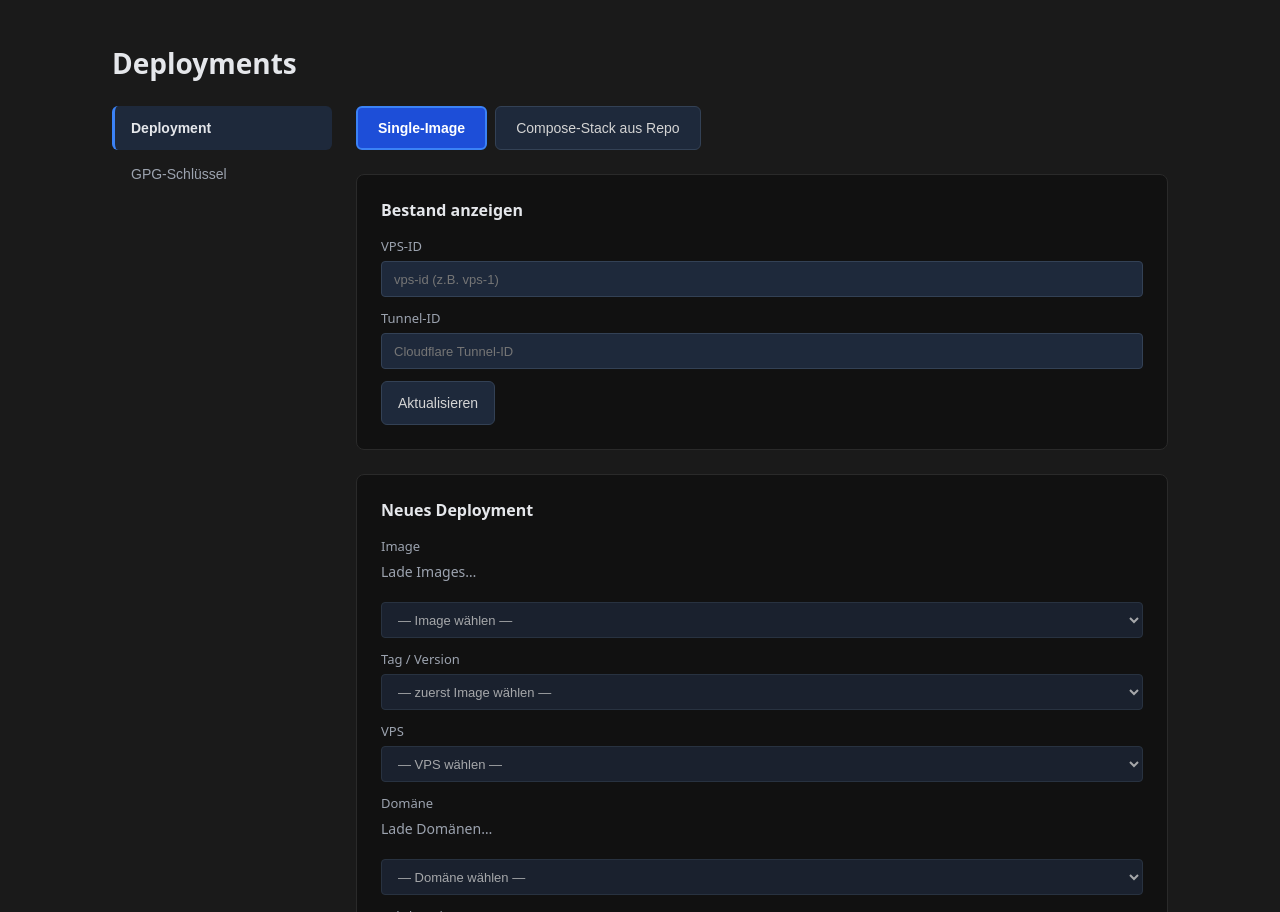
Test: DeploymentsView — AC12: Stack-Undeploy type-to-confirm › submit button disabled when confirm != stackName
The image size is (1280, 912).
Click the button "Compose-Stack aus Repo" at (598, 128), box [495,106,700,150]
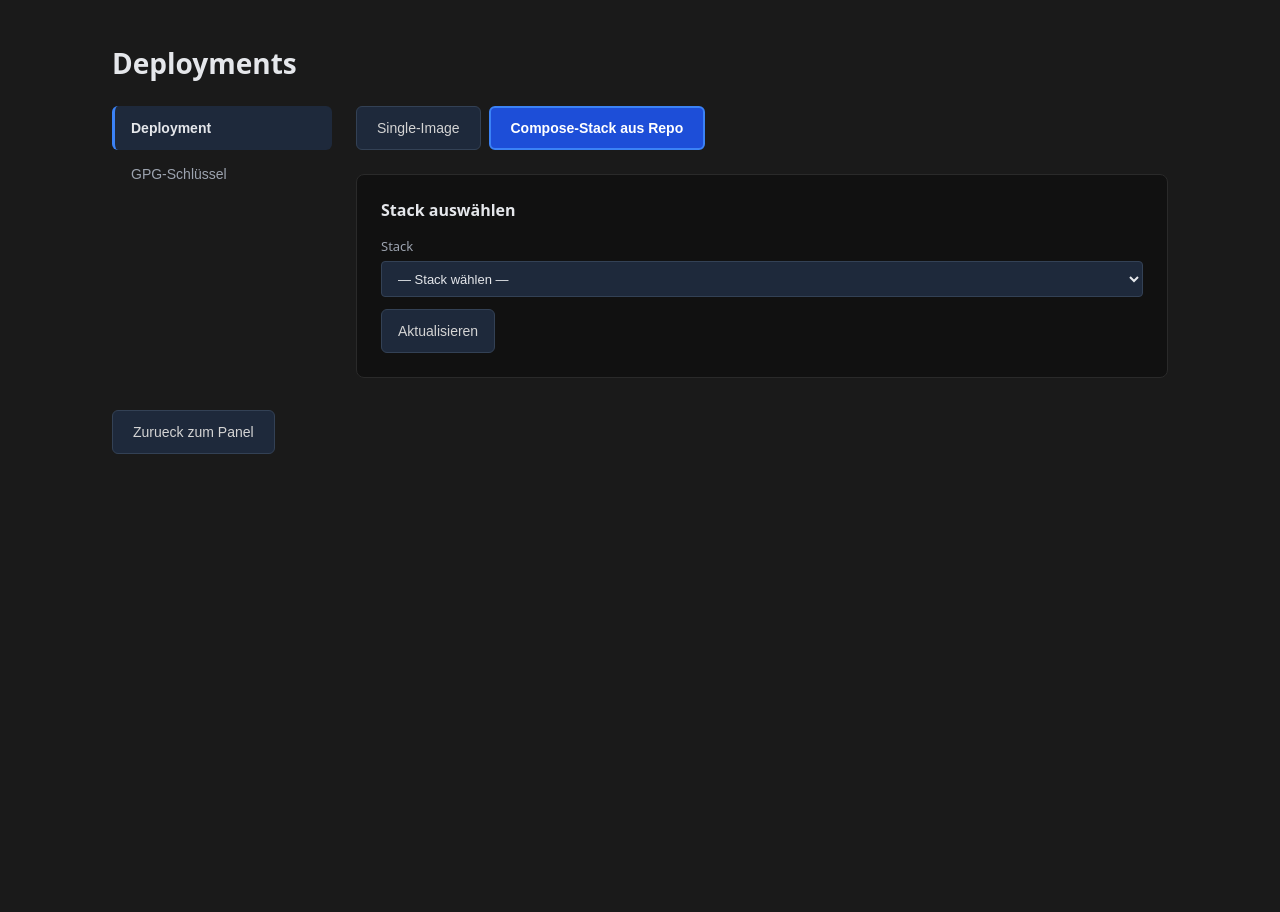
expect the dropdown named "Compose-Stack auswählen" is shown: met
Select "myapp" in the dropdown named "Compose-Stack auswählen" at (762, 279), box [381,261,1143,297]
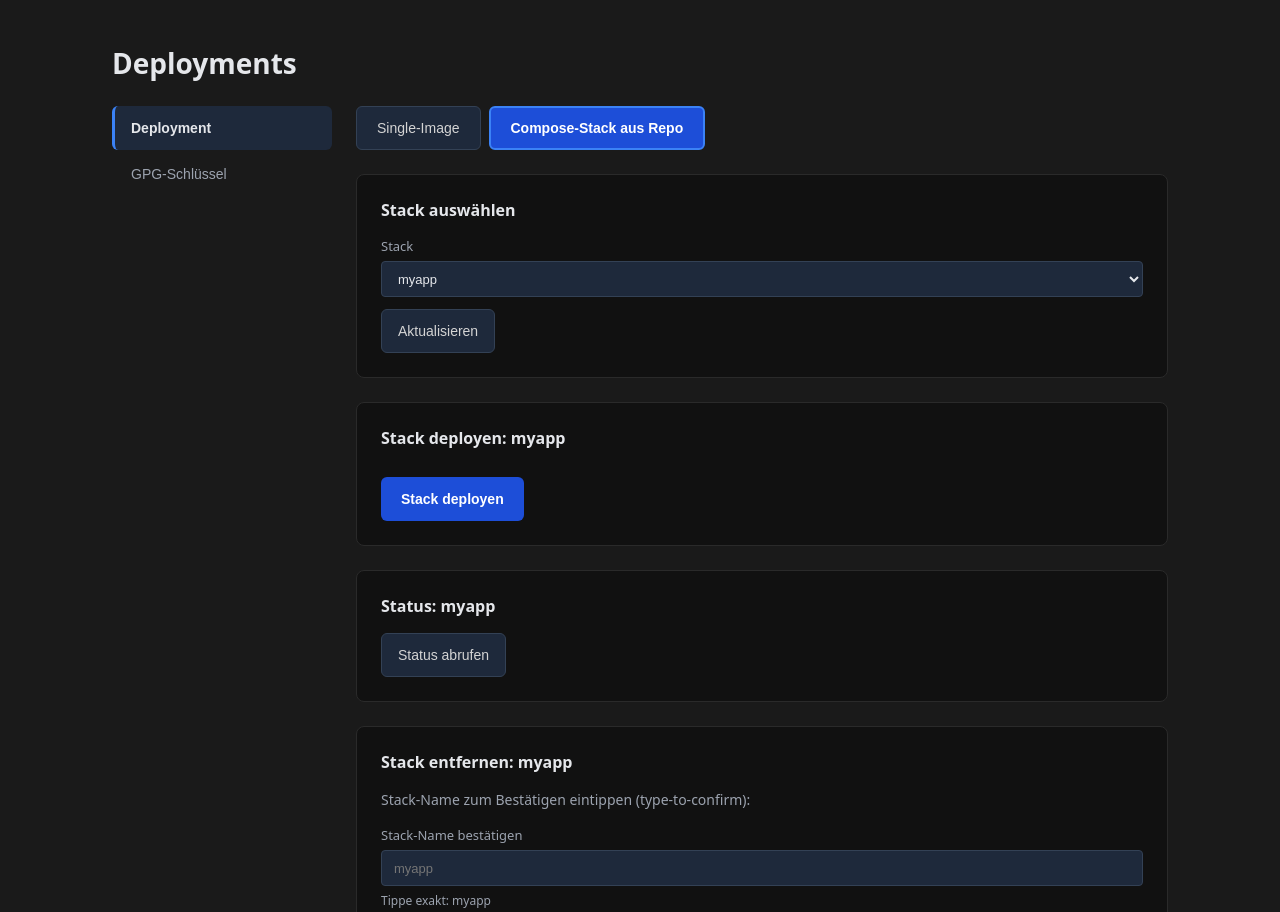
expect the element "Stack entfernen" is shown: met, box [356,726,1168,911]
Type "wrong-name" into the field named "Stack-Name myapp bestätigen" at (762, 868), box [381,850,1143,886]
(page scrolled)
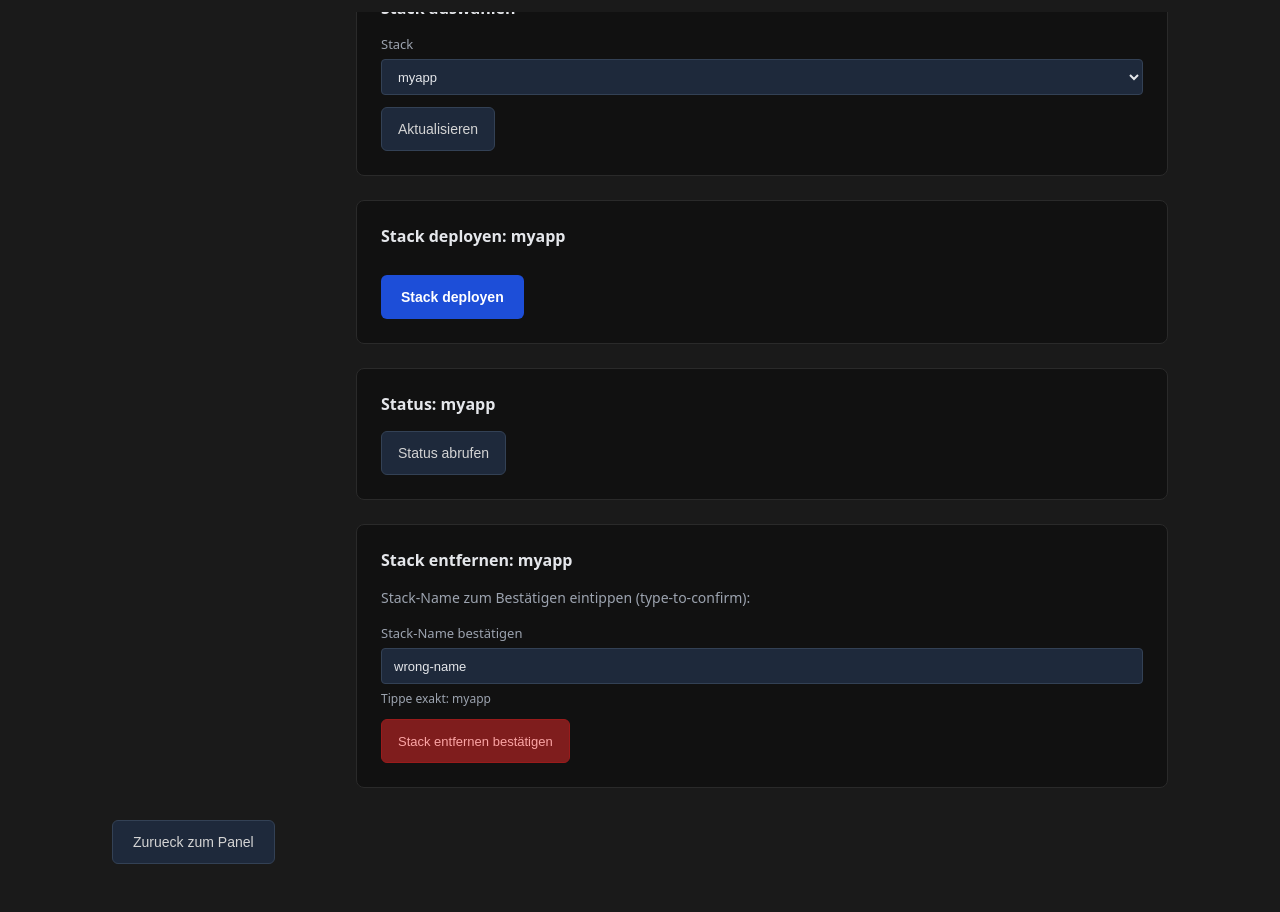
expect the button "Stack entfernen bestätigen" is disabled: met, box [381,719,570,763]
